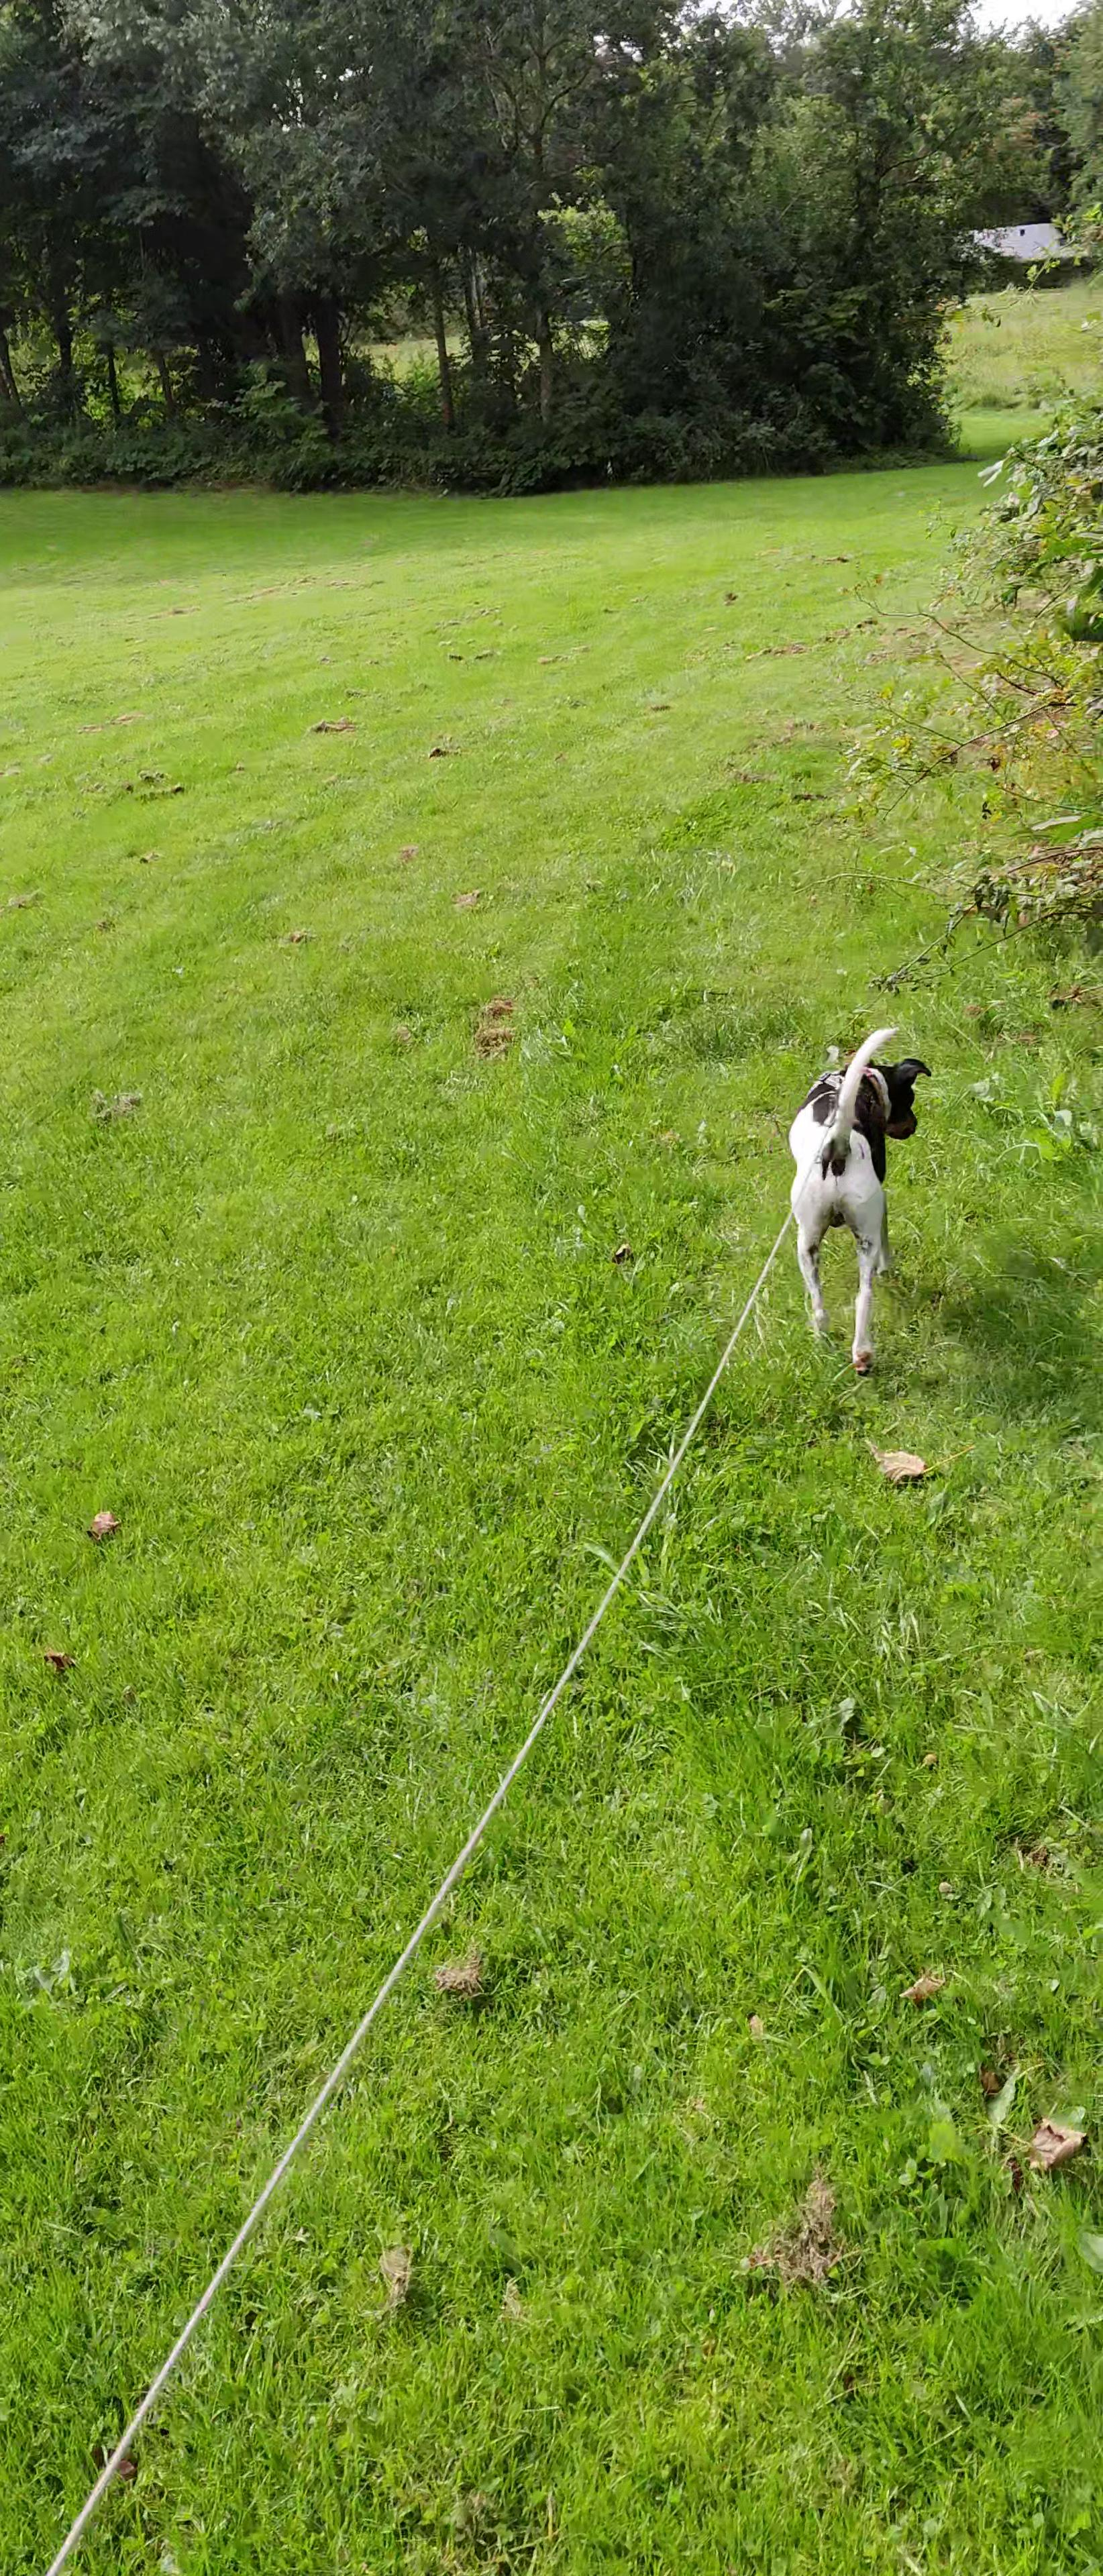Dog: (776, 1015, 942, 1383)
